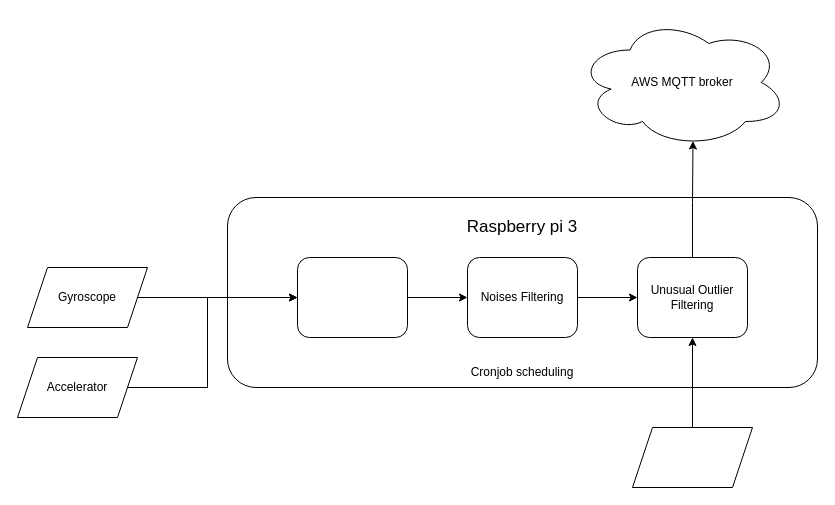
This 835x505 diagram has some shape labels left out. Here are the shapes that lost their labels. From the top down, the centre of each, then its label:
At [352,297]: "Read value".
At [692,457]: "GPS module".
